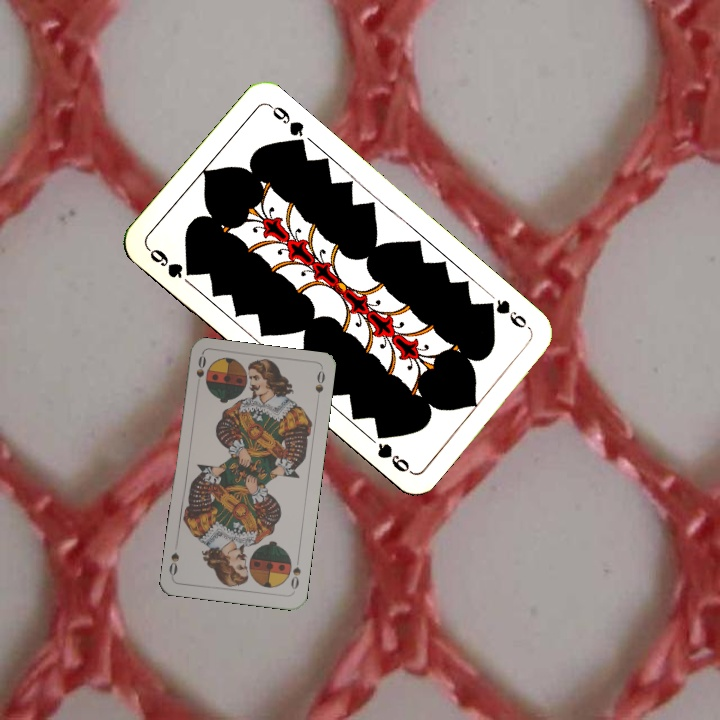G9: (143, 243, 198, 281), (480, 295, 534, 333)
SO: (192, 352, 209, 392), (287, 554, 303, 594)
